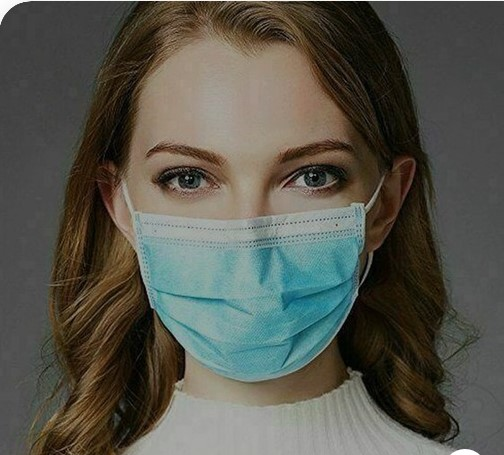face_with_mask: (86, 8, 412, 379)
